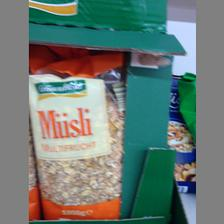Cerealien: (28, 70, 124, 218)
